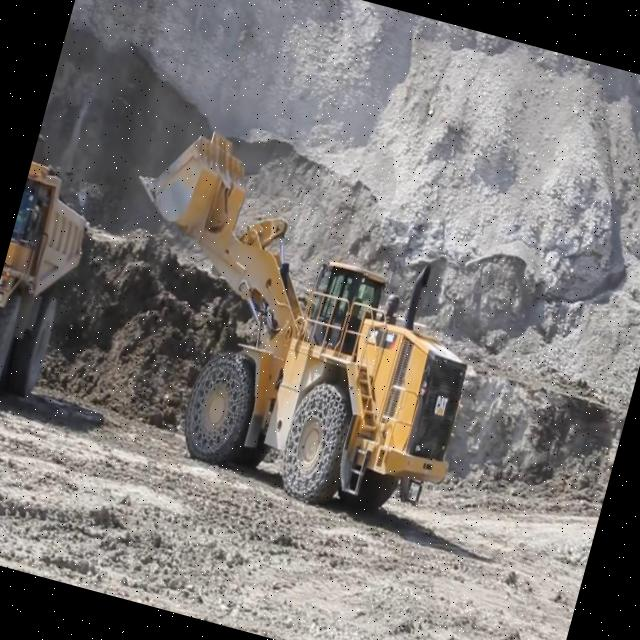Dump Truck: (0, 154, 103, 418)
Loader: (66, 107, 516, 535)
